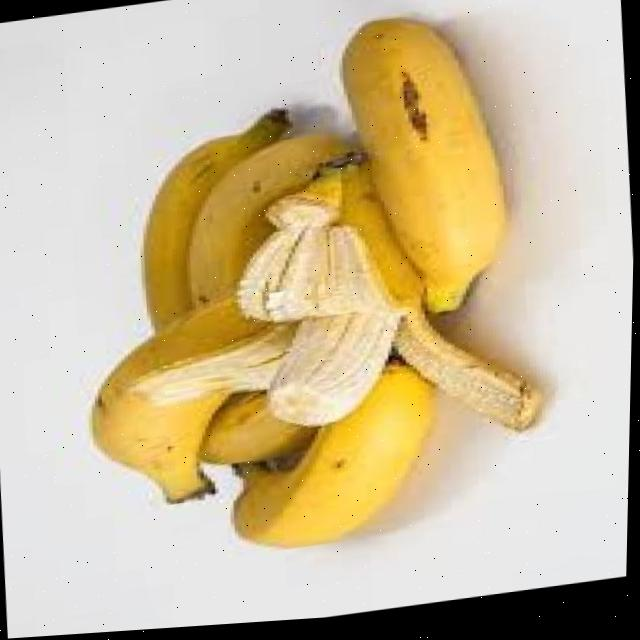Wet: (31, 0, 579, 592), (109, 111, 565, 501)
